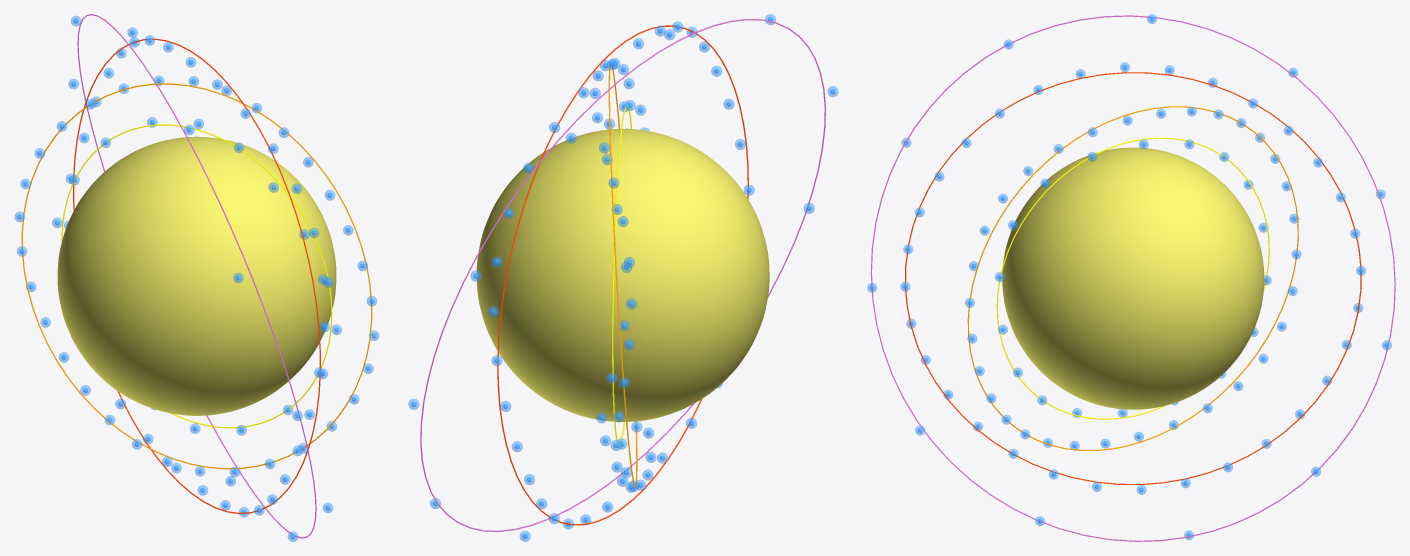
3 views of the same model, side by side, from view 1: azimuth 30°, elevation 25°; view 2: azimuth 150°, elevation 25°; view 3: azimuth 270°, elevation 25° (orthographic). The views are drawn at different scales.
Parts seen in each view (by area): view 1: Lr, object 61, object 126, object 191, object 24; view 2: Lr, object 191, object 126, object 61, object 24; view 3: Lr, object 191, object 126, object 61, object 24.
Boxes of the visible parts, x1,y1,x2,y2 form: Lr: [57, 136, 336, 415]; object 61: [21, 83, 372, 469]; object 126: [73, 38, 320, 513]; object 191: [77, 14, 316, 538]; object 24: [61, 124, 332, 428]; Lr: [476, 129, 769, 421]; object 191: [420, 18, 825, 531]; object 126: [497, 25, 748, 525]; object 61: [608, 66, 637, 487]; object 24: [612, 105, 631, 445]; Lr: [1002, 147, 1264, 409]; object 191: [870, 15, 1395, 541]; object 126: [905, 72, 1361, 484]; object 61: [967, 106, 1298, 450]; object 24: [996, 137, 1269, 419].
Bounding box in the file's own units: 4.14 × 8.22 × 8.35.
